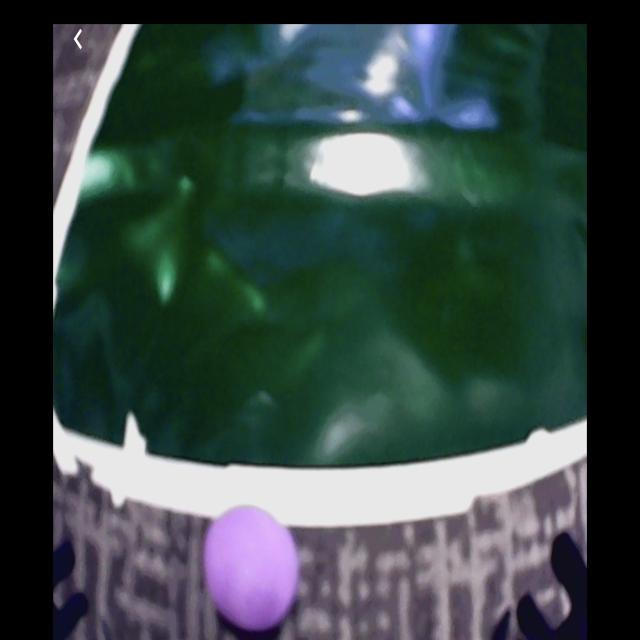ball: (205, 506, 297, 635)
